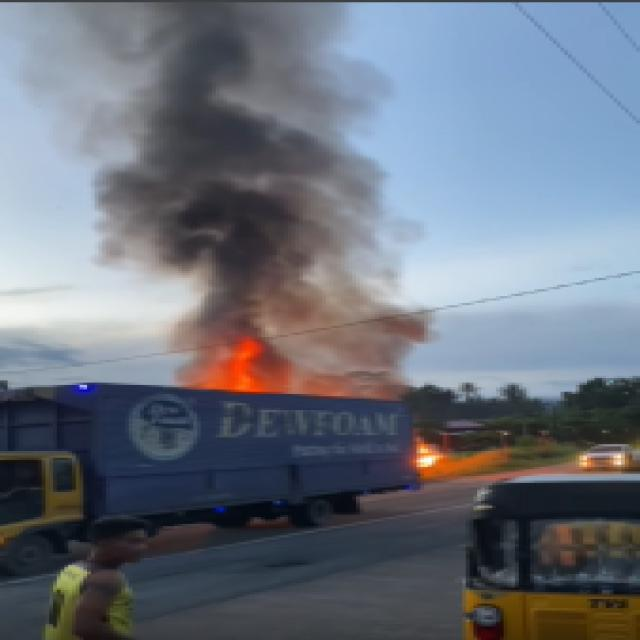Fire: (190, 323, 312, 383), (419, 434, 469, 484)
Smoke: (92, 0, 431, 353)
